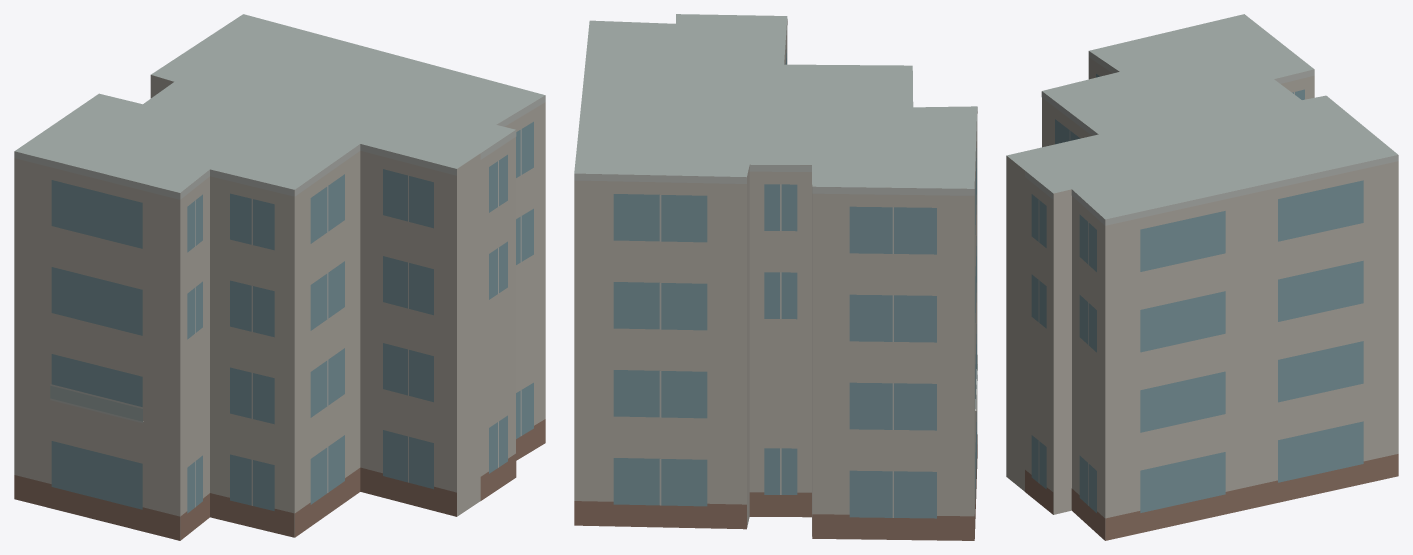
File: survey-upis-32993324.glb
The picture shows the model from 3 angles, left to right: view 1: azimuth 30°, elevation 25°; view 2: azimuth 150°, elevation 25°; view 3: azimuth 270°, elevation 25°; orthographic projection. The views are drawn at different scales.
Parts seen in each view (by area): view 1: survey-upis-32993324.tmp; view 2: survey-upis-32993324.tmp; view 3: survey-upis-32993324.tmp.
Part boxes in pixels (x1,y1,x2,y2): survey-upis-32993324.tmp: [14, 14, 545, 540]; survey-upis-32993324.tmp: [574, 14, 977, 540]; survey-upis-32993324.tmp: [1006, 14, 1398, 540].
Size of the model in its own units: 17.01 by 12.4 by 13.72.
